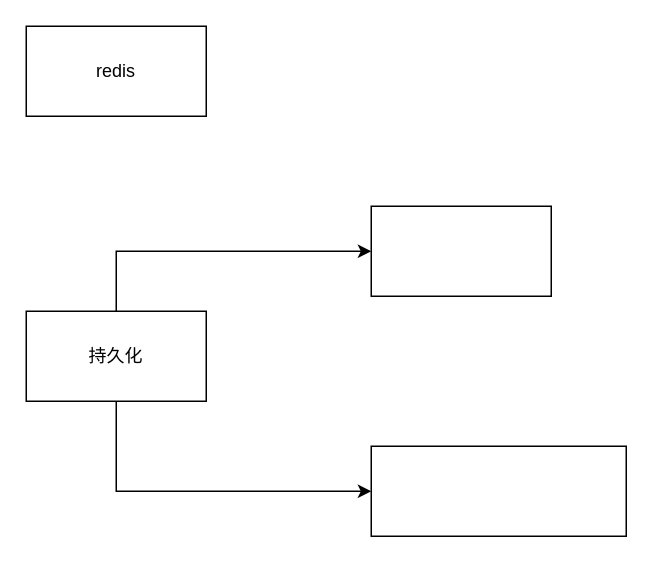
Some shapes in this 653 by 563 pixel diagram are drawn without their labels. The shapes that lost their labels are listed below. From the top down, each one's centre as x and y in pixels, then its label:
At point 460,250: "RDB(快照)".
At point 498,490: "AOF（追加）".
